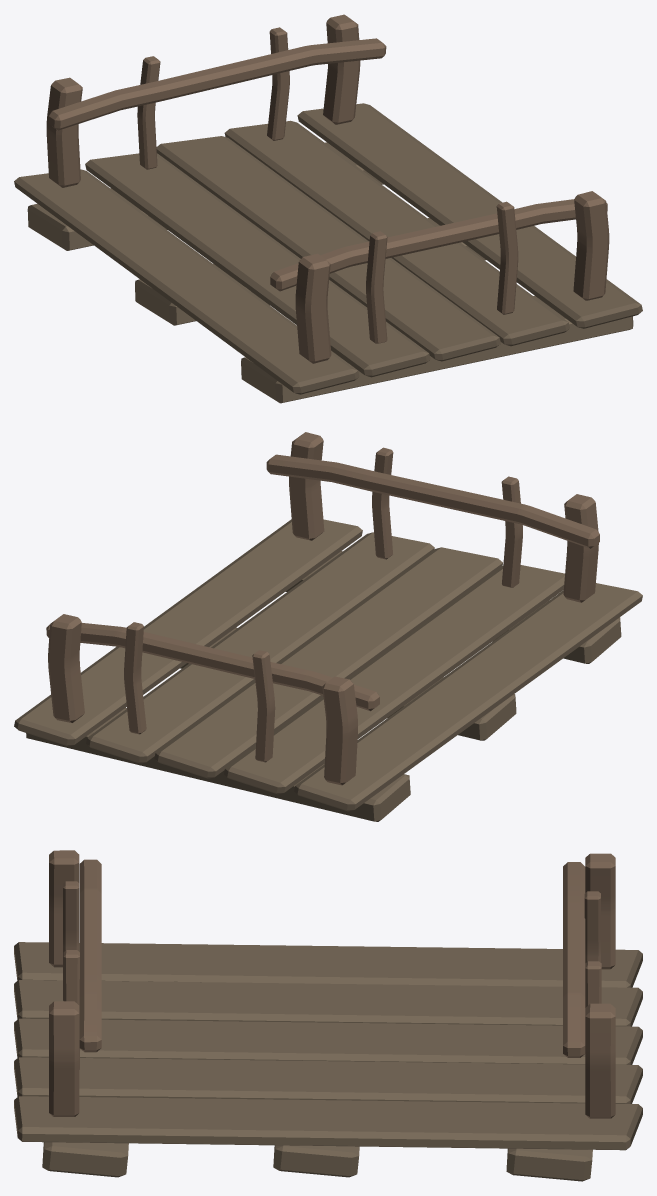
The model's file is GrotePlatform-WeenieTree.fbx.
3 views of the same model, one above another, from view 1: azimuth 30°, elevation 25°; view 2: azimuth 150°, elevation 25°; view 3: azimuth 270°, elevation 25° (orthographic). The views are drawn at different scales.
Parts seen in each view (by area): view 1: polySurface994; view 2: polySurface994; view 3: polySurface994.
Part boxes in pixels (x1=…): polySurface994: x1=14, y1=14, x2=642, y2=403; polySurface994: x1=14, y1=432, x2=642, y2=821; polySurface994: x1=14, y1=850, x2=642, y2=1181.
Bounding box in the file's own units: 210 × 287 × 83.15.
